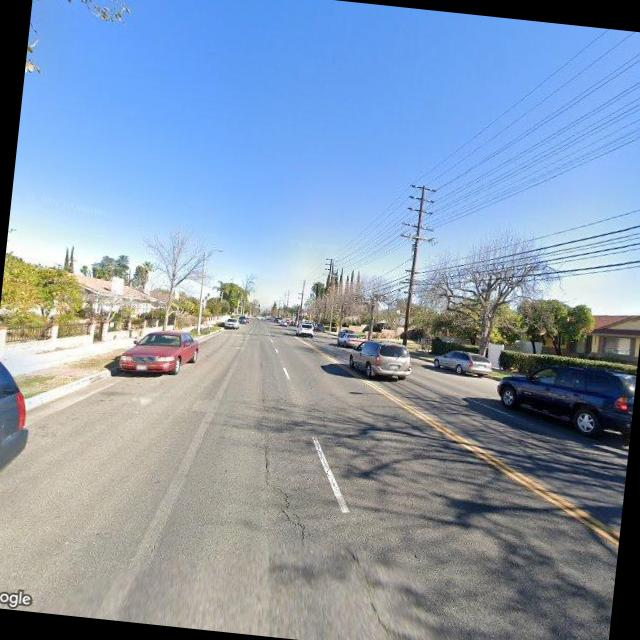pothole: (248, 443, 318, 545)
